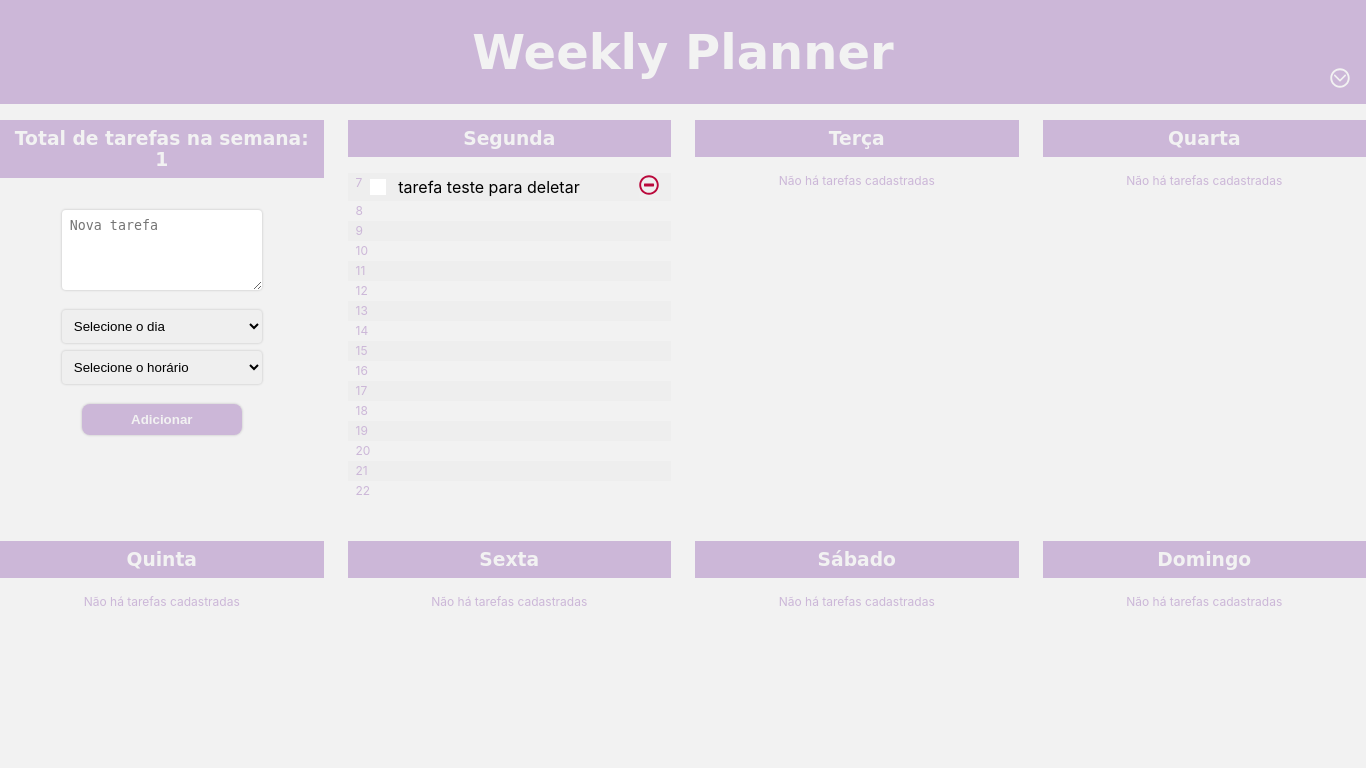
Test: Apagar um tarefa › Quando adiciona tarefa, aparece botão apagar e o botão apaga o tarefa
Click the button with test id "deleteBtn".
click(649, 186)  # box [639, 175, 659, 198]
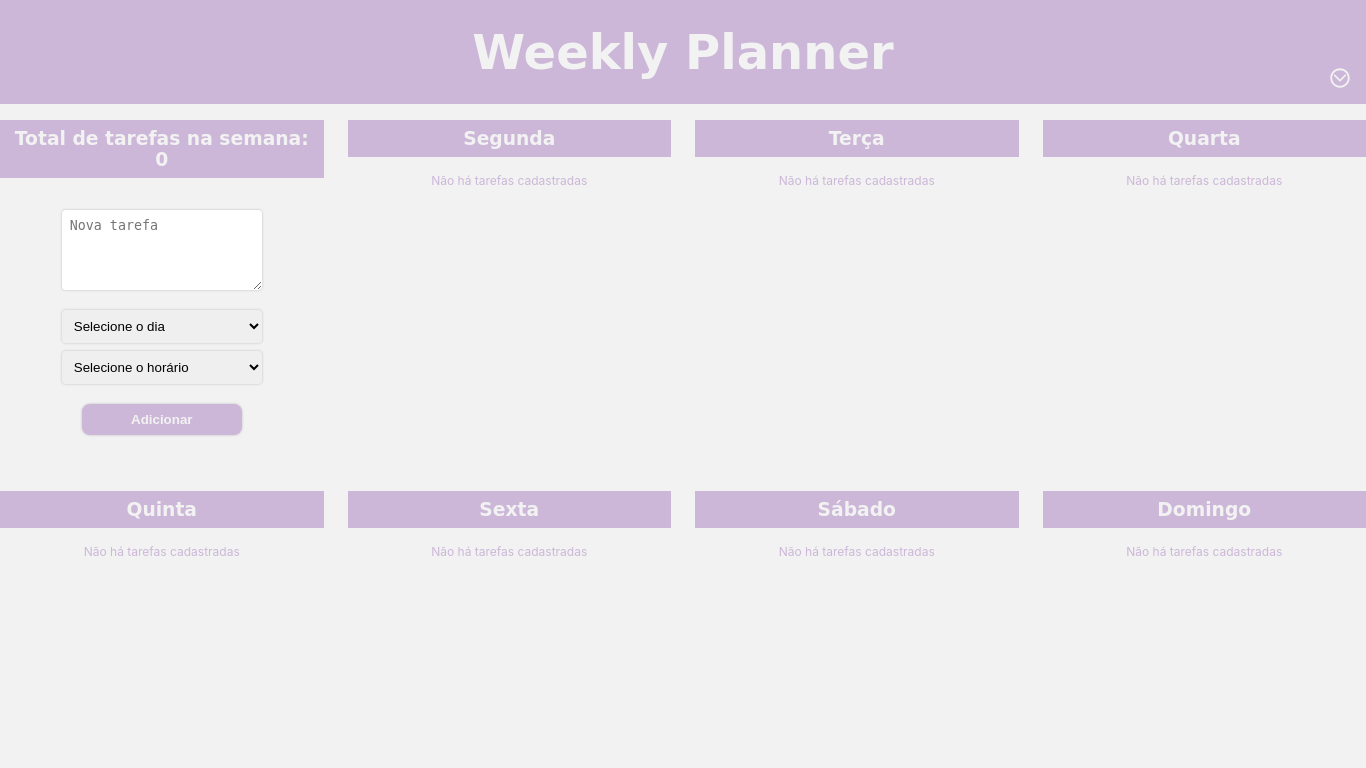
Expected: the text "tarefa teste para deletar" is gone
